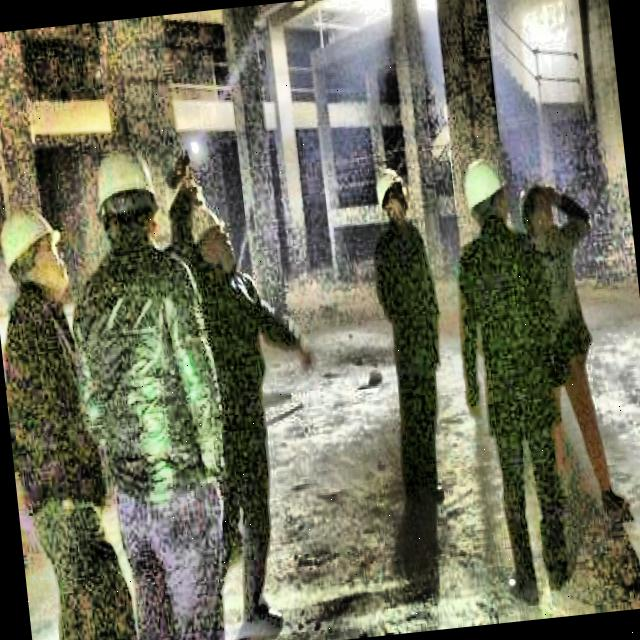helmet: (84, 144, 168, 260), (0, 195, 68, 307), (455, 152, 515, 234), (160, 158, 207, 236), (188, 202, 236, 274), (514, 173, 562, 242), (371, 160, 414, 230)
